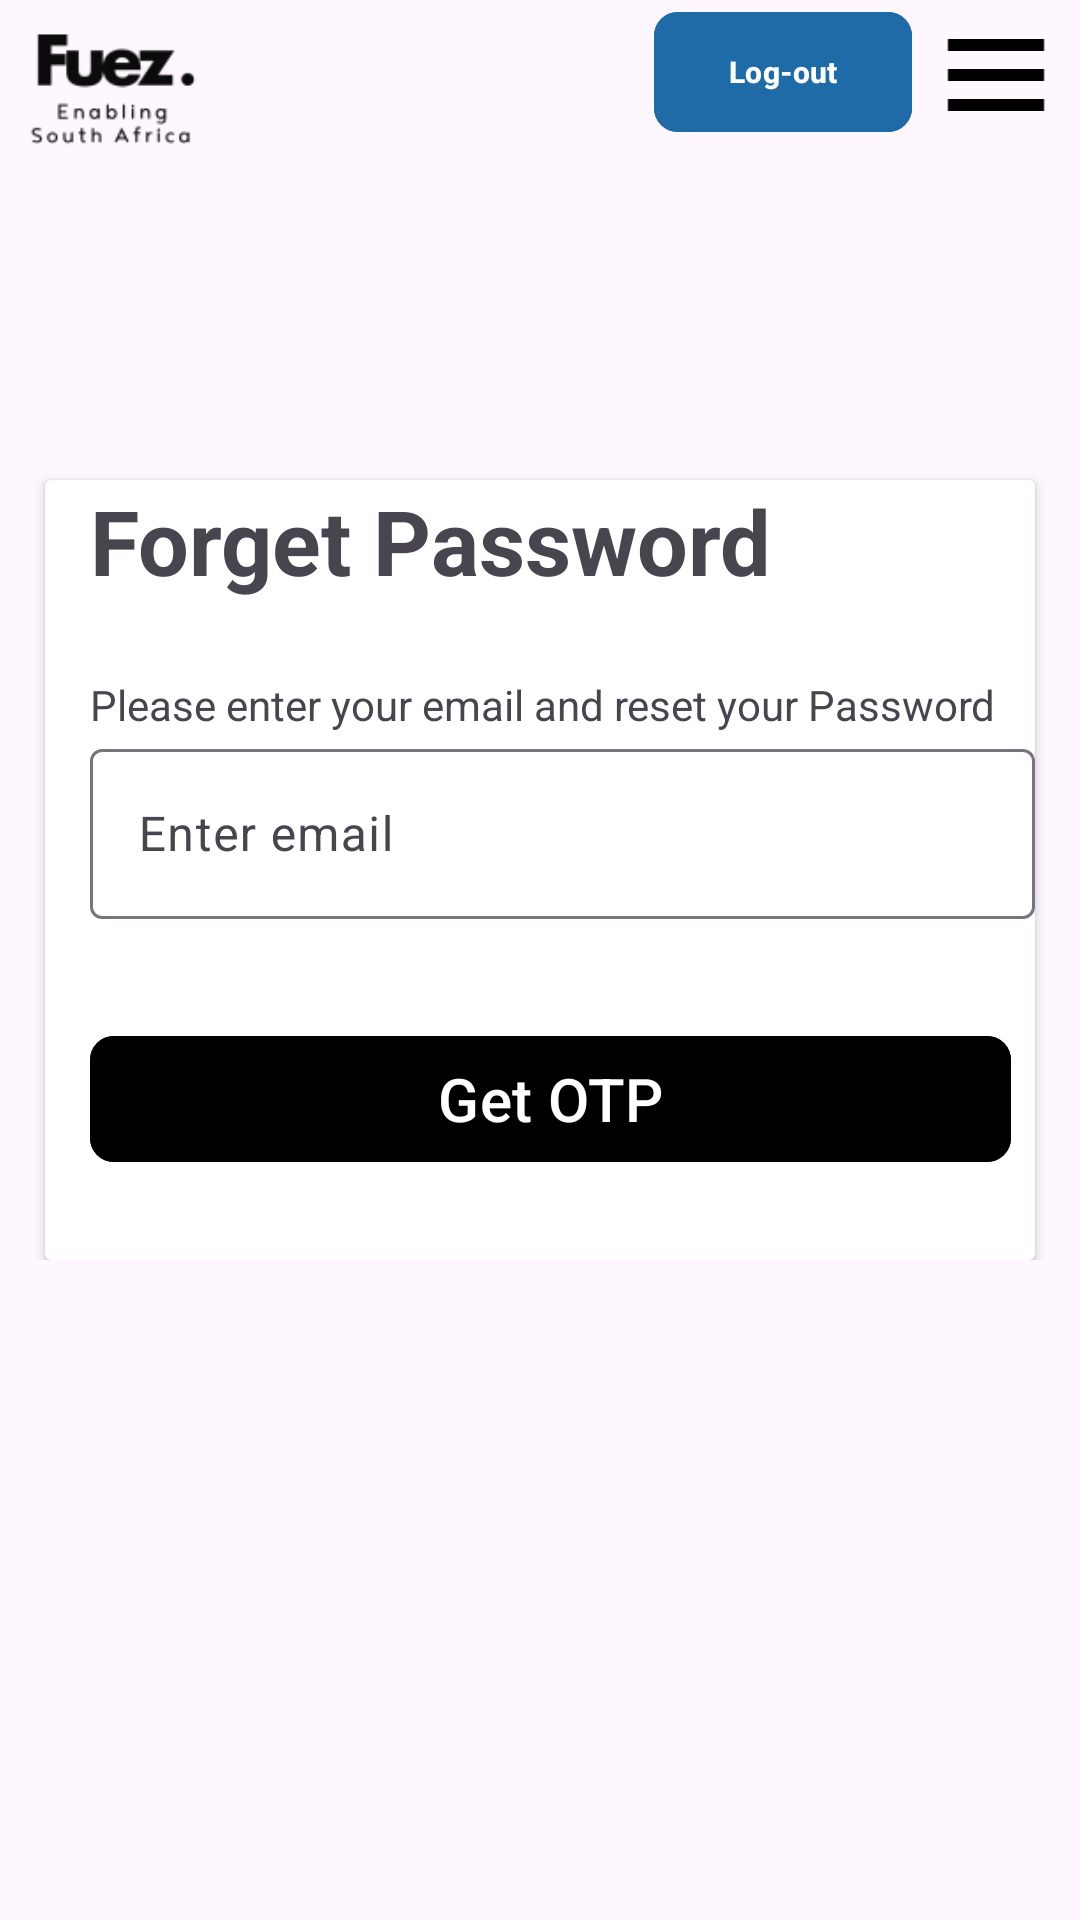

Icon click points for this 1080w x 1920h phone screenshot, format (x=x, y=y):
dehaze: (x=996, y=75)
